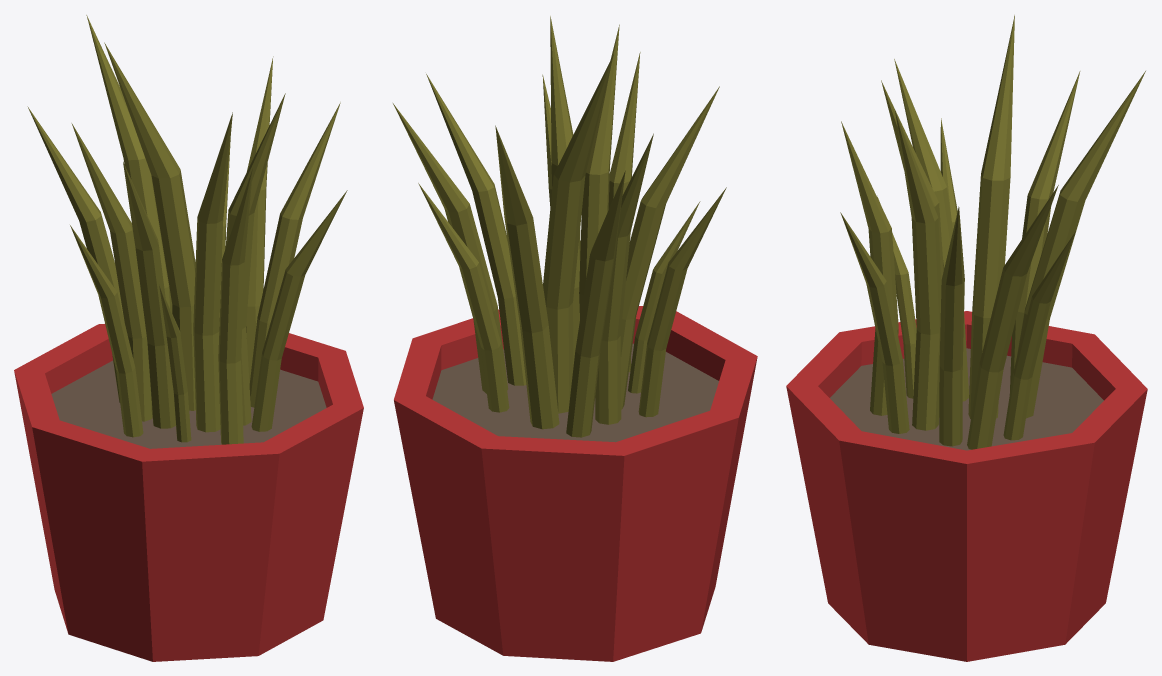
The model's file is Flower_50.fbx.
3 renders of one model, left to right at view 1: azimuth 30°, elevation 25°; view 2: azimuth 150°, elevation 25°; view 3: azimuth 270°, elevation 25°, orthographic. The views are drawn at different scales.
Visible parts, largest first — view 1: Flower_50; view 2: Flower_50; view 3: Flower_50.
Boxes of the visible parts, x1,y1,x2,y2 form: Flower_50: (14,15,363,661); Flower_50: (393,16,757,661); Flower_50: (786,15,1147,661).
Bounding box in the file's own units: 26.73 × 26.72 × 45.63.
